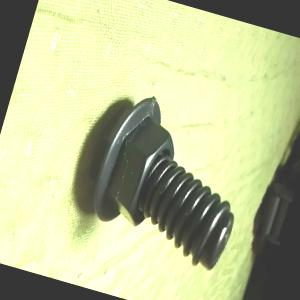parafuso: (79, 86, 260, 274)
